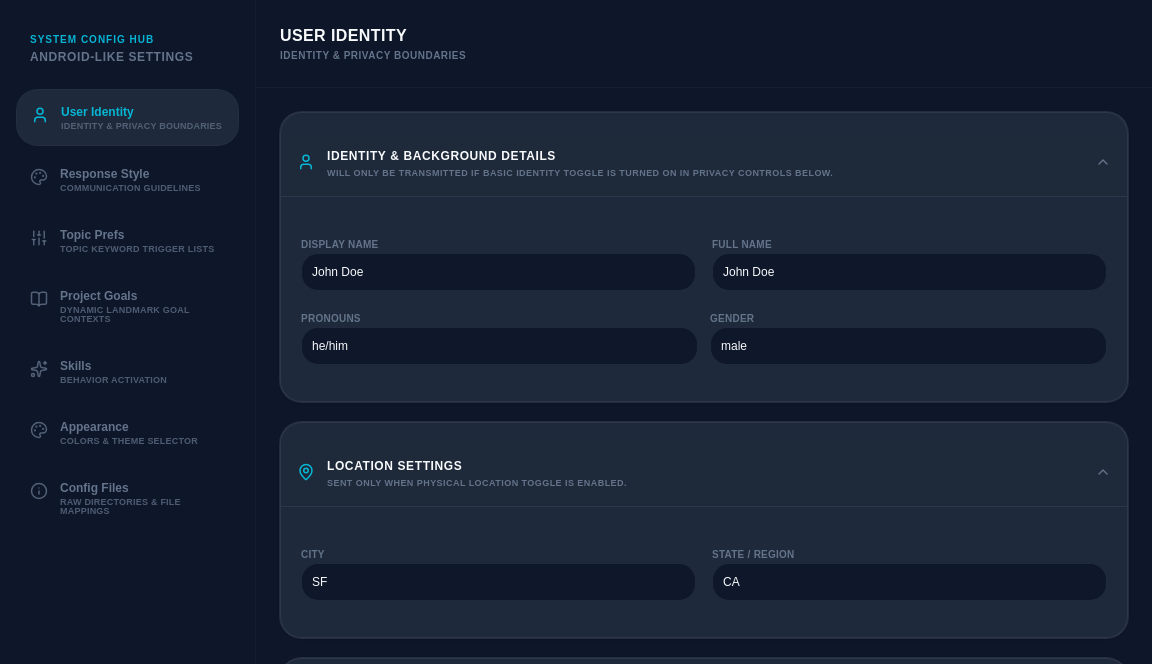
Test: SettingsView Integration Tests › 3. Appearance renders themes from Dynamic backend data
This screenshot has width=1152, height=664.
Click the button "Appearance Colors & theme selector" at (128, 432), box [16,405,239,460]
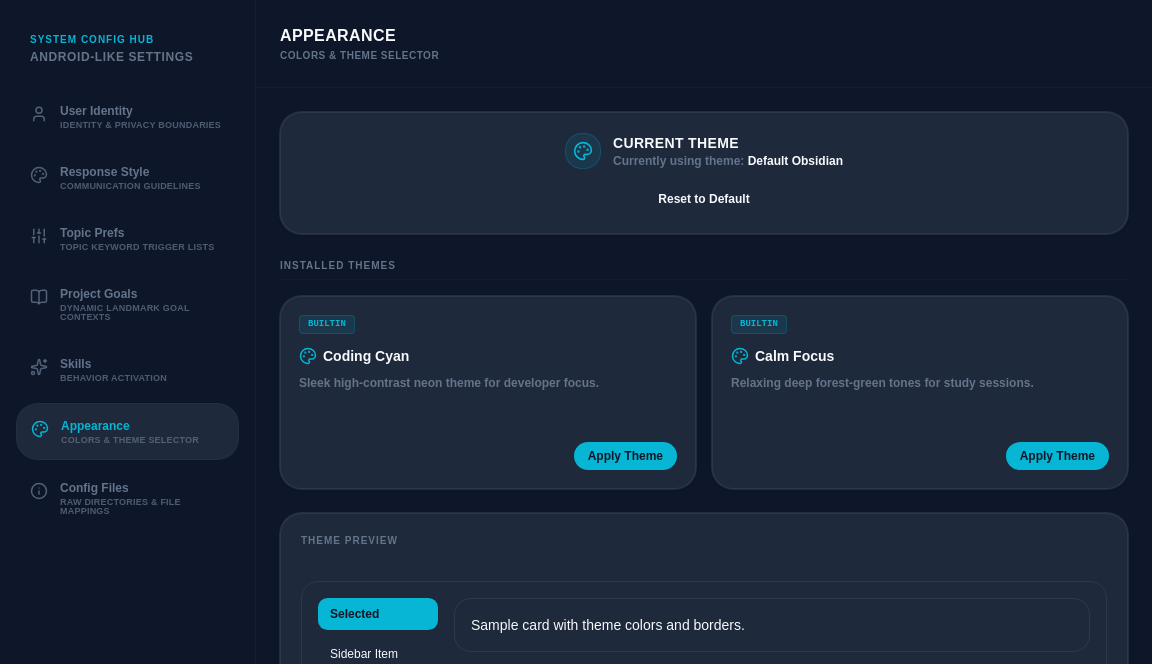
Check: the heading "Coding Cyan" is shown, box [299,347,409,365]
Check: the heading "Calm Focus" is shown, box [731,347,834,365]
Check: the text "Relaxing deep forest-green tones for study sessions." is shown, box [731,376,1034,390]
